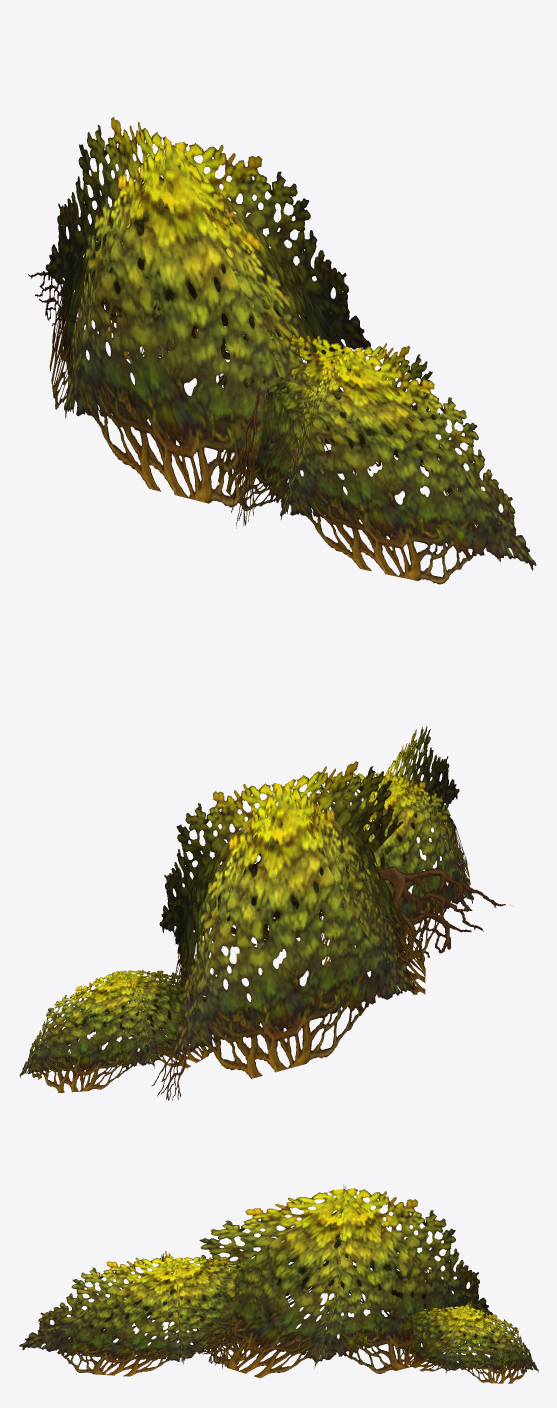
The model's file is elwynnbush01.obj.
The picture shows the model from 3 angles, top to bottom: view 1: azimuth 30°, elevation 25°; view 2: azimuth 150°, elevation 25°; view 3: azimuth 270°, elevation 25°; orthographic projection. The views are drawn at different scales.
Visible parts, largest first — view 1: elwynnbush01; view 2: elwynnbush01; view 3: elwynnbush01.
Part boxes in pixels (x1,y1,x2,y2): elwynnbush01: (28,117,536,584); elwynnbush01: (19,726,513,1100); elwynnbush01: (19,1184,538,1383).
Size of the model in its own units: 4.84 by 5.08 by 12.3.
1 material, 1 textured.
